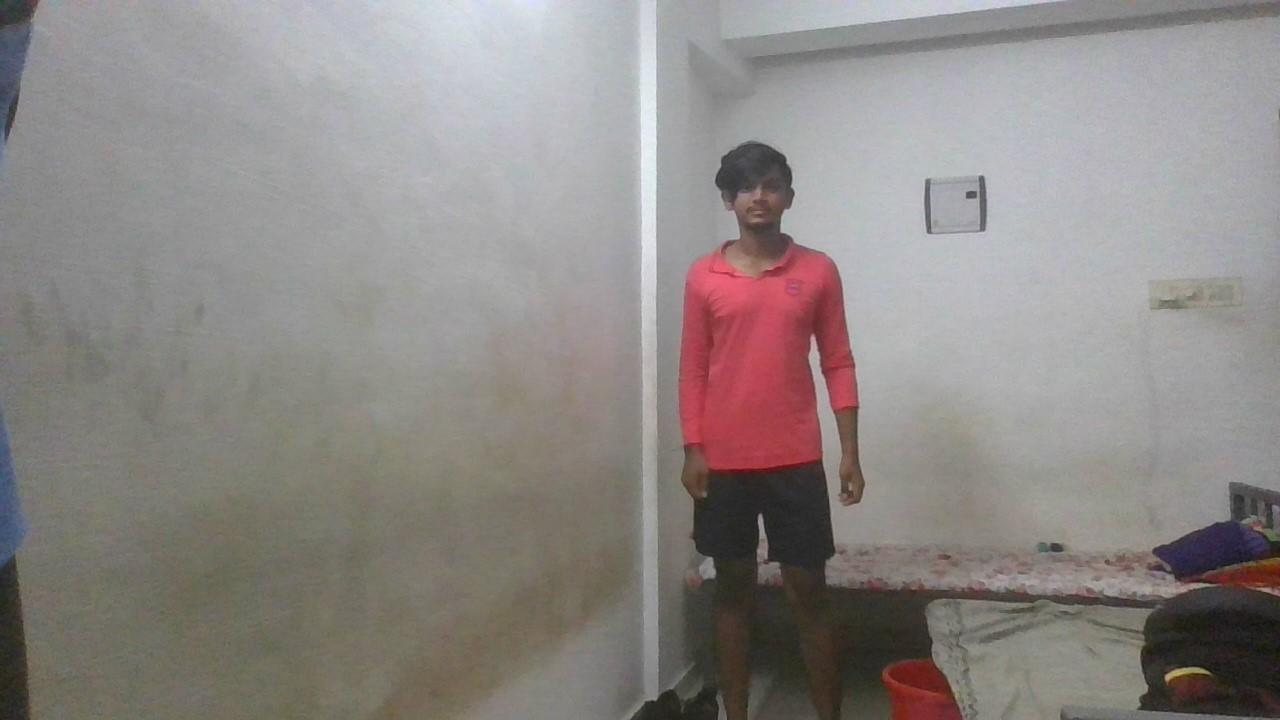nohelmet: (718, 143, 795, 235)
